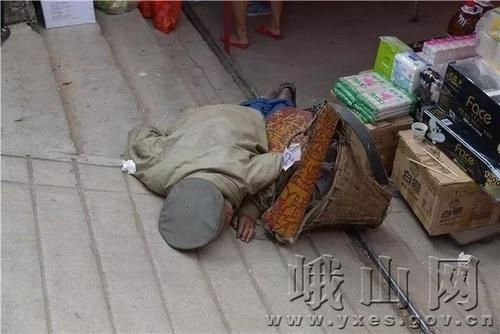falling: (116, 66, 315, 263)
